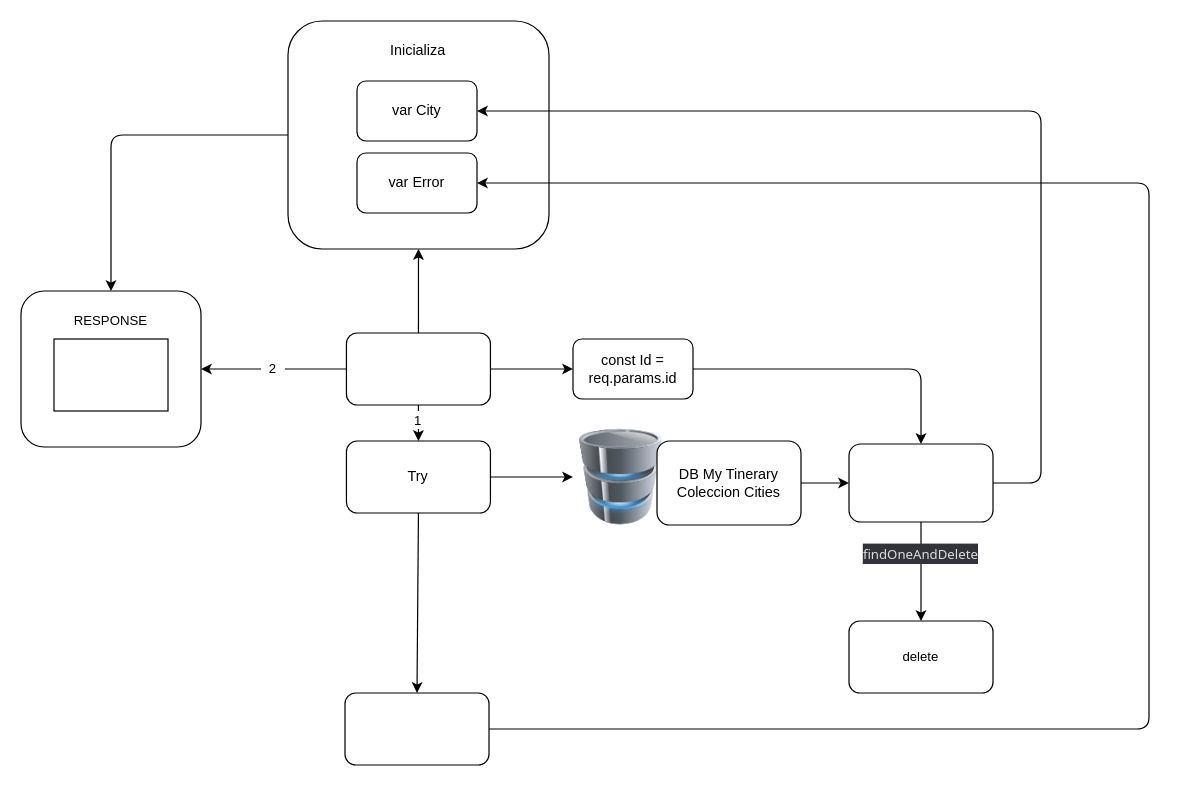
This 1180x786 diagram has some shape labels left out. The shapes that lost their labels are listed below. From the top down, each one's centre as x and y in pixels, then its label:
At point (110, 374): "Error Success response".
At point (417, 368): "Llamado al controlador RemoveCity".
At point (920, 482): "query by Id".
At point (416, 728): "Catch".
